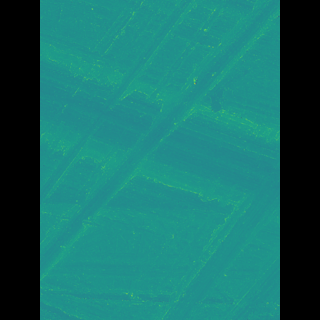Loch: (69, 0, 250, 290), (151, 154, 251, 320)
